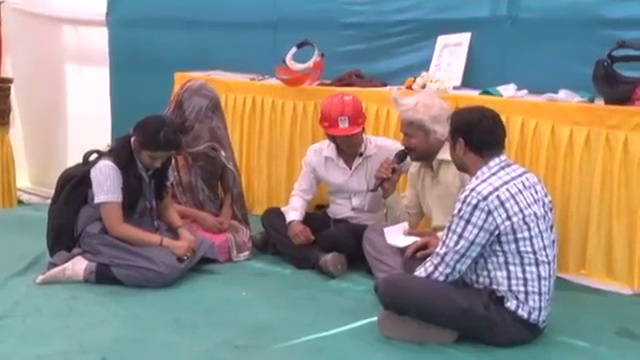helmet: (318, 92, 370, 140)
helmet_off: (448, 103, 513, 185), (121, 113, 184, 179), (395, 94, 451, 167), (166, 78, 225, 147)
helmet_on: (316, 98, 371, 163)
person: (373, 100, 559, 348), (37, 116, 204, 287), (255, 90, 402, 272), (364, 96, 470, 282), (151, 74, 255, 263)
